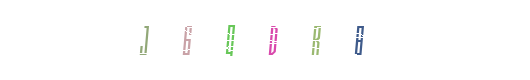6: (190, 0, 270, 80)
8: (319, 0, 399, 80)
D: (225, 0, 305, 80)
J: (189, 0, 269, 80)
Q: (212, 0, 292, 80)
R: (233, 0, 313, 80)
